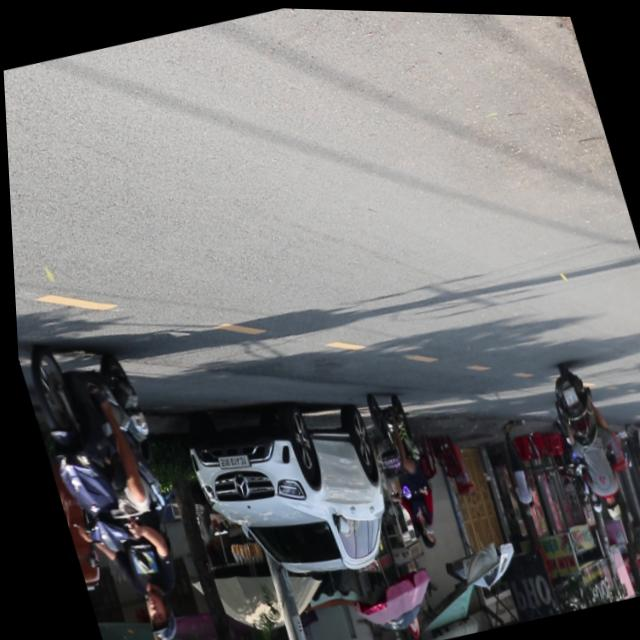helmet: (132, 586, 174, 640)
licenseplate: (14, 325, 208, 640)
